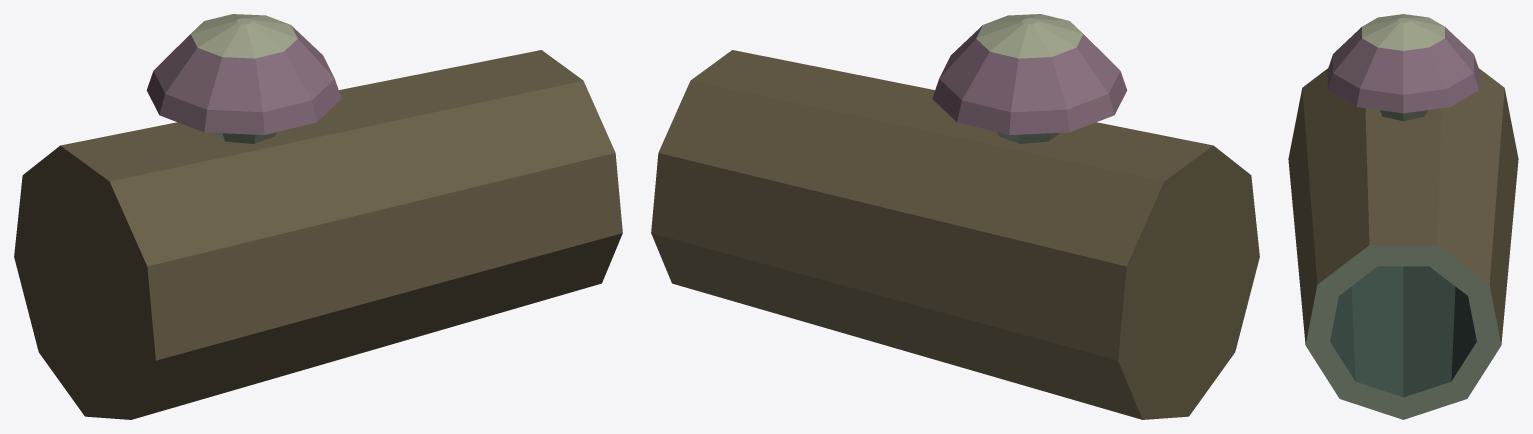
File: fallen-trunk.glb
The picture shows the model from 3 angles, left to right: view 1: azimuth 30°, elevation 25°; view 2: azimuth 150°, elevation 25°; view 3: azimuth 270°, elevation 25°; orthographic projection. The views are drawn at different scales.
Visible parts, largest first — view 1: fallen-trunk__body; view 2: fallen-trunk__body; view 3: fallen-trunk__body.
Part boxes in pixels (x1,y1,x2,y2): fallen-trunk__body: (14,14,622,419); fallen-trunk__body: (651,14,1259,419); fallen-trunk__body: (1288,14,1518,419).
Bounding box in the file's own units: 1.8 × 1.28 × 0.9257.
